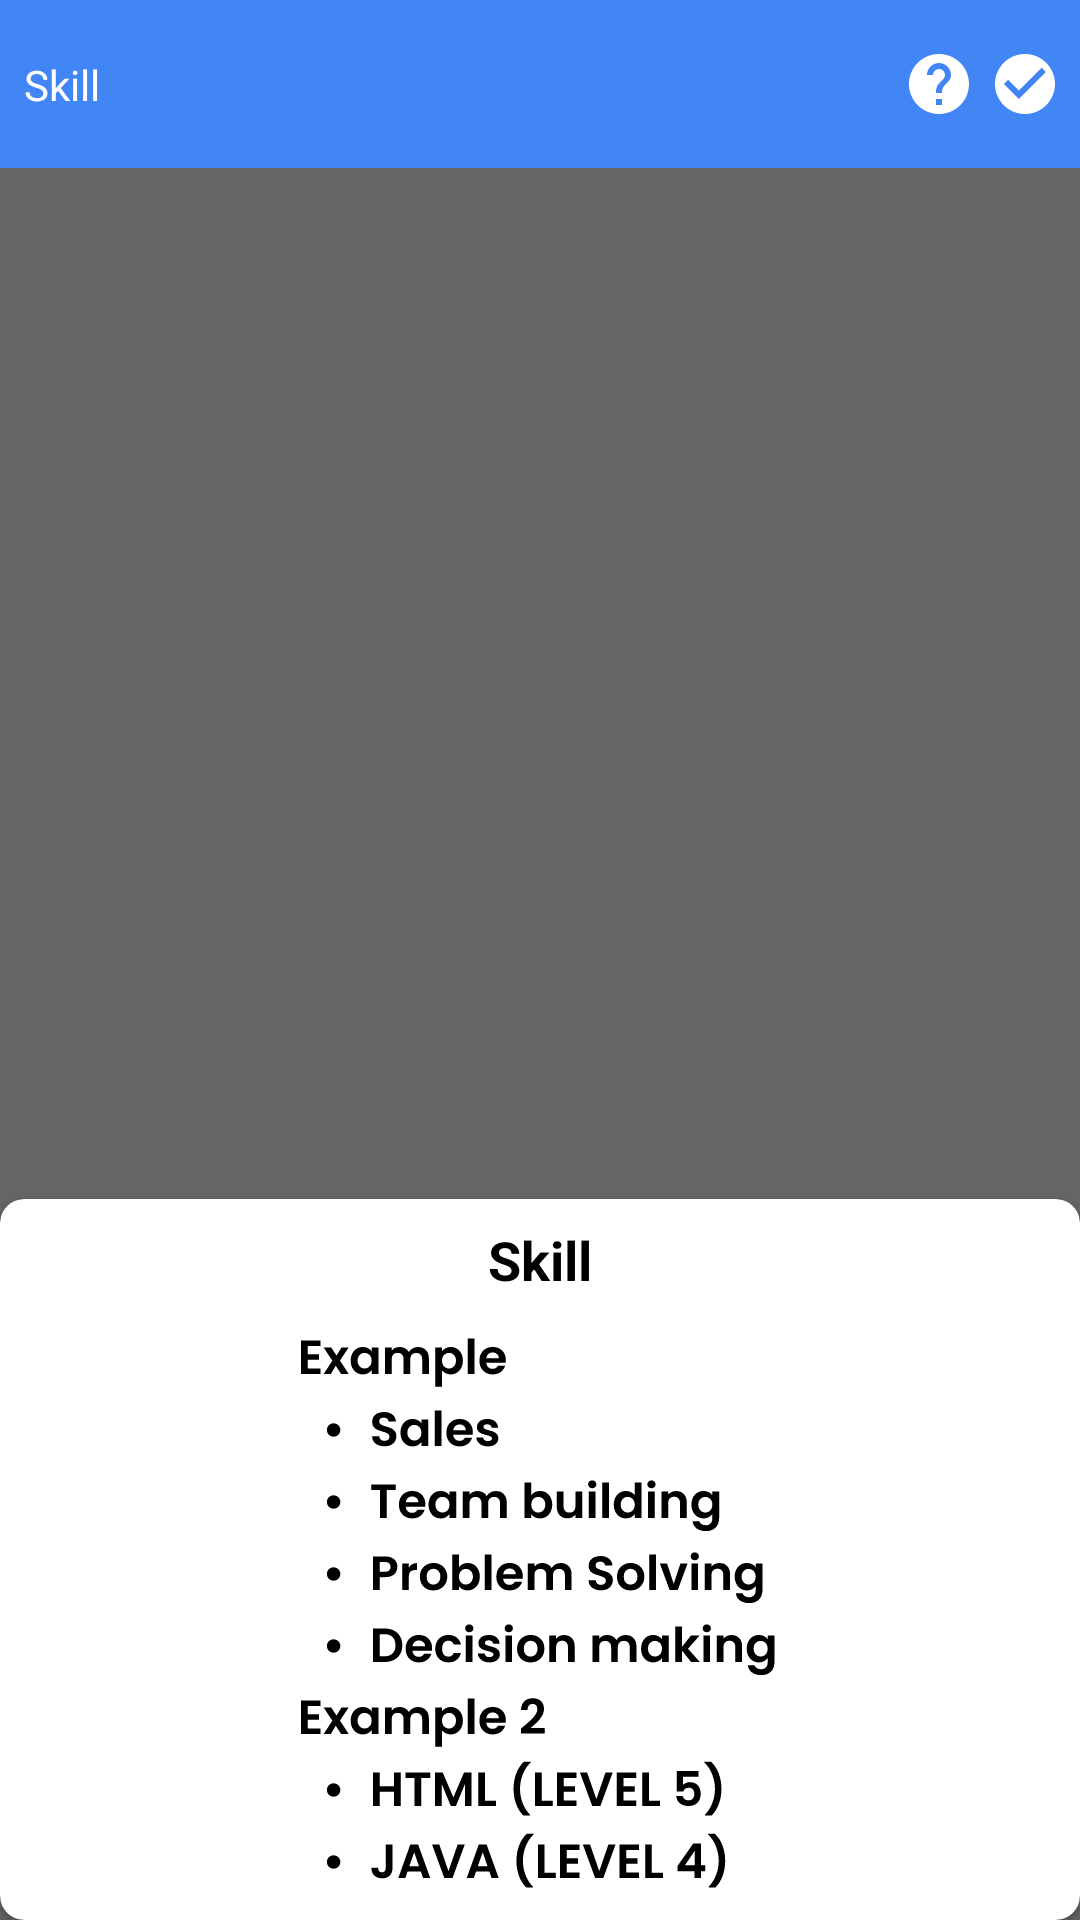

Icon click points for this 1080 x 1920 phone screenshot, format (x,y):
check: (1025,84)
help: (939,84)
